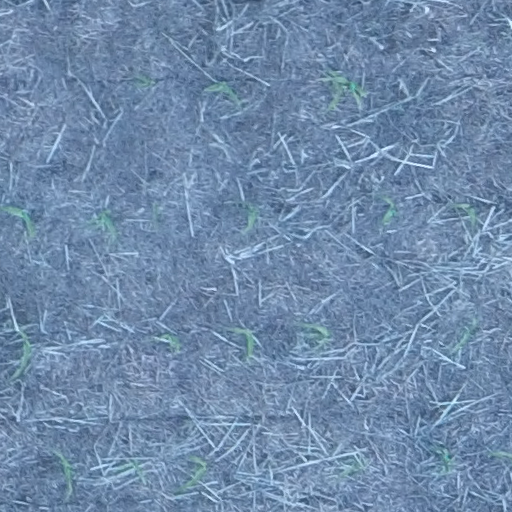planta: (175, 454, 207, 495), (321, 76, 366, 104), (11, 328, 31, 378), (229, 326, 255, 360), (88, 209, 117, 238), (54, 450, 73, 494), (205, 80, 241, 103), (300, 322, 331, 348), (454, 317, 477, 350), (451, 202, 477, 226), (327, 68, 340, 110), (380, 194, 397, 225), (116, 459, 143, 478), (434, 447, 453, 472), (340, 458, 364, 477), (157, 332, 180, 351), (243, 203, 258, 230), (135, 73, 153, 86)
